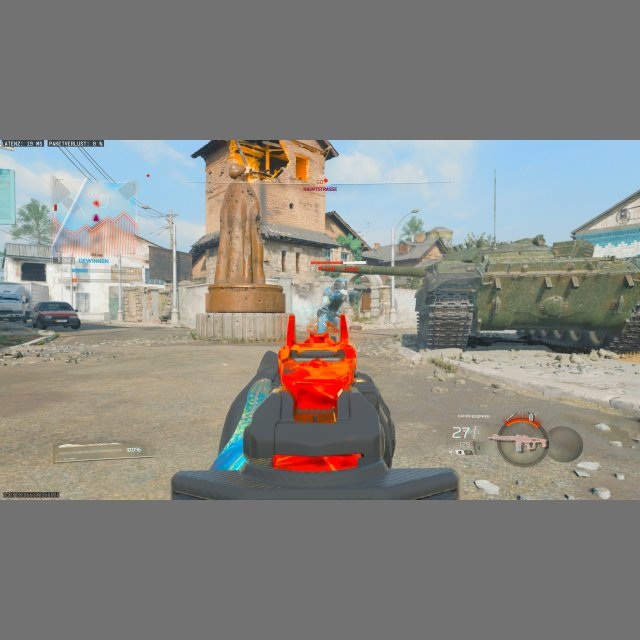head: (333, 277, 346, 289)
player: (318, 276, 351, 328)
